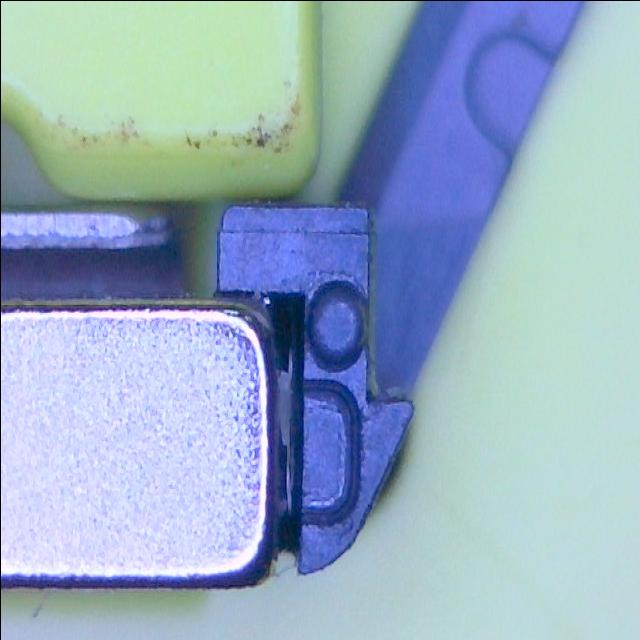lacking: (294, 376, 362, 526)
